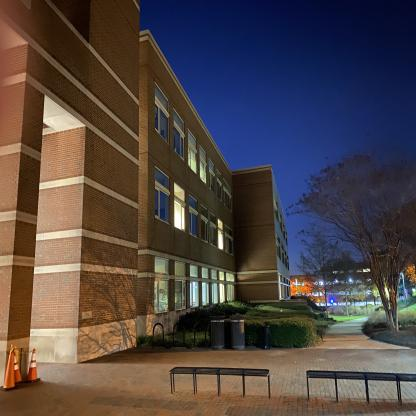eb2: (0, 1, 304, 320)
